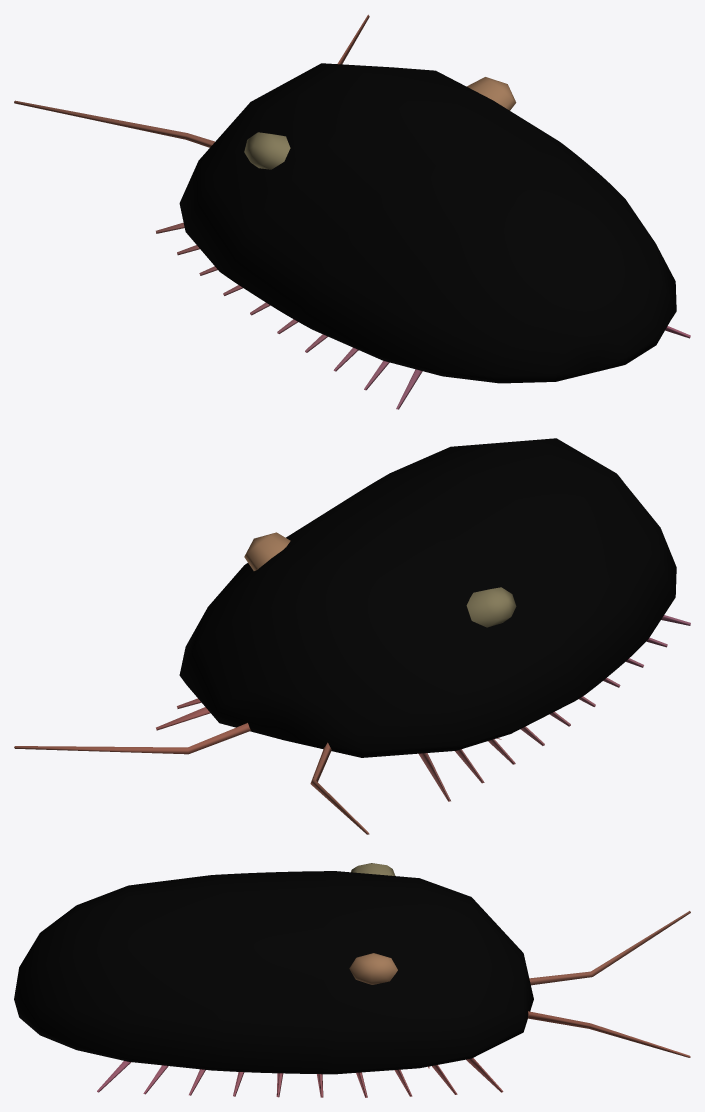
File: trilobite_smooth_lo.glb
The picture shows the model from 3 angles, top to bottom: view 1: azimuth 30°, elevation 25°; view 2: azimuth 150°, elevation 25°; view 3: azimuth 270°, elevation 25°; orthographic projection. The views are drawn at different scales.
Parts seen in each view (by area): view 1: trilobite_smooth_lo; view 2: trilobite_smooth_lo; view 3: trilobite_smooth_lo.
Part boxes in pixels (x1,y1,x2,y2): trilobite_smooth_lo: (14, 14, 690, 409); trilobite_smooth_lo: (14, 438, 690, 834); trilobite_smooth_lo: (14, 863, 690, 1097).
Bounding box in the file's own units: 0.102 × 0.0463 × 0.1953.
